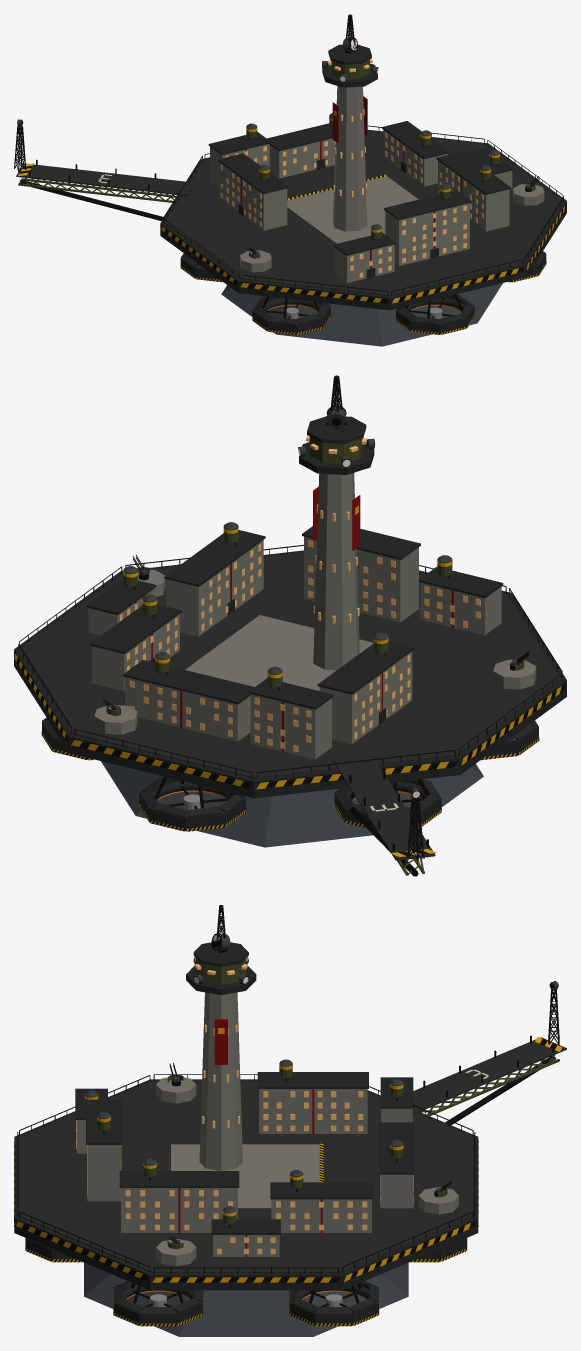
The model's file is station_civil.obj.
The picture shows the model from 3 angles, top to bottom: view 1: azimuth 30°, elevation 25°; view 2: azimuth 150°, elevation 25°; view 3: azimuth 270°, elevation 25°; orthographic projection. The views are drawn at different scales.
Parts seen in each view (by area): view 1: station_civil; view 2: station_civil; view 3: station_civil.
Part boxes in pixels (x1=…): station_civil: x1=14, y1=14, x2=566, y2=346; station_civil: x1=14, y1=375, x2=566, y2=876; station_civil: x1=14, y1=905, x2=566, y2=1336.
Size of the model in its own units: 1400 by 1008 by 1400.
1 material, 1 textured.
